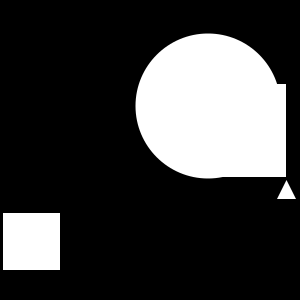circle: (193, 84, 286, 177), (3, 213, 60, 270)
rectangle: (136, 34, 280, 178)
triangle: (277, 180, 296, 199)
